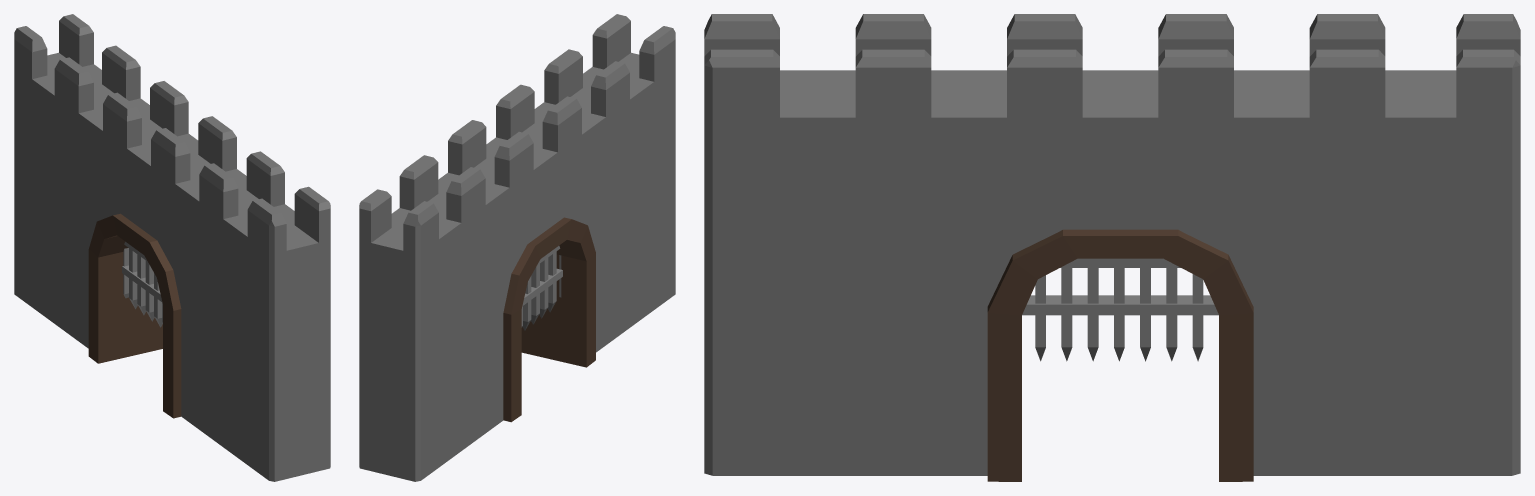
File: Rampart_Door_02.fbx
The picture shows the model from 3 angles, left to right: view 1: azimuth 30°, elevation 25°; view 2: azimuth 150°, elevation 25°; view 3: azimuth 270°, elevation 25°; orthographic projection. The views are drawn at different scales.
Parts seen in each view (by area): view 1: Cube.156, Cube.157, Cube.159; view 2: Cube.156, Cube.157, Cube.159; view 3: Cube.156, Cube.157, Cube.159.
Boxes of the visible parts, x1,y1,x2,y2 form: Cube.156: [14, 14, 330, 481]; Cube.157: [88, 213, 181, 418]; Cube.159: [122, 241, 162, 327]; Cube.156: [359, 14, 675, 481]; Cube.157: [503, 217, 595, 422]; Cube.159: [521, 246, 562, 330]; Cube.156: [704, 14, 1520, 475]; Cube.157: [987, 229, 1253, 481]; Cube.159: [1022, 258, 1218, 361].
Size of the model in its own units: 173 by 560 by 994.
